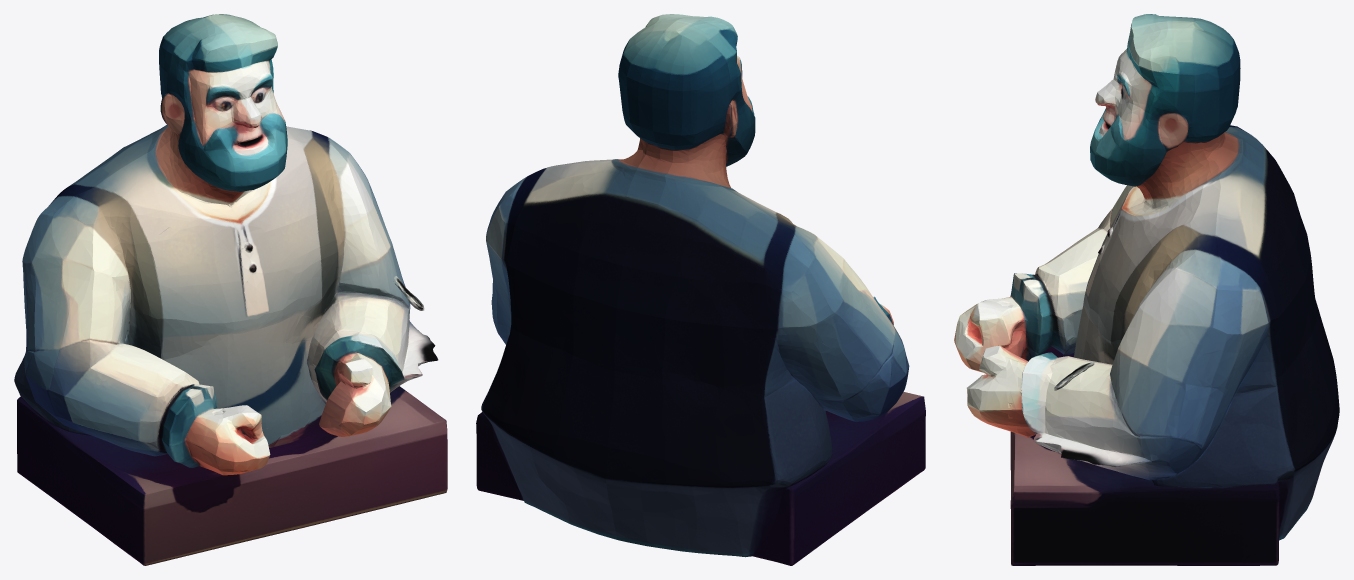
Rendered from generated-1747091012985-509203_1747091034763_29d44791.glb.
The picture shows the model from 3 angles, left to right: view 1: azimuth 30°, elevation 25°; view 2: azimuth 150°, elevation 25°; view 3: azimuth 270°, elevation 25°; orthographic projection. The views are drawn at different scales.
Visible parts, largest first — view 1: world; view 2: world; view 3: world.
Part boxes in pixels (box(x1,y1,x2,y2)): world: box(14, 14, 447, 565); world: box(476, 14, 925, 565); world: box(954, 14, 1339, 565).
Bounding box in the file's own units: 0.8854 × 0.9998 × 0.7467.
Materials: 1 (1 with a texture image).
